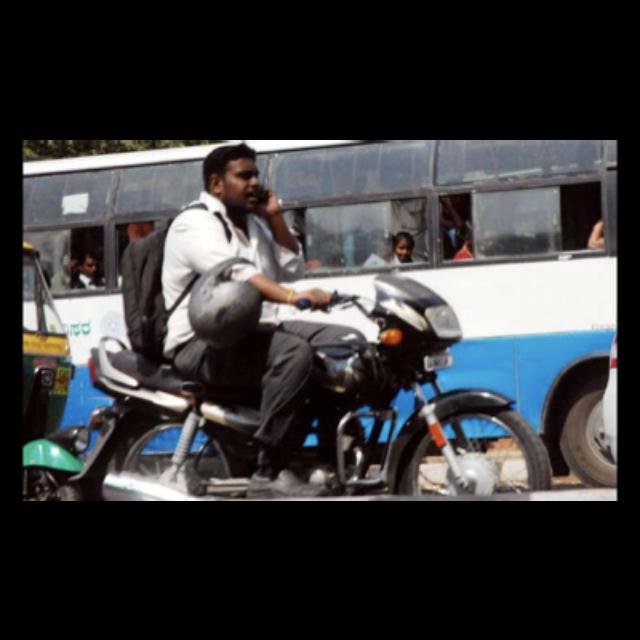Without Helmet: (194, 140, 266, 214)
